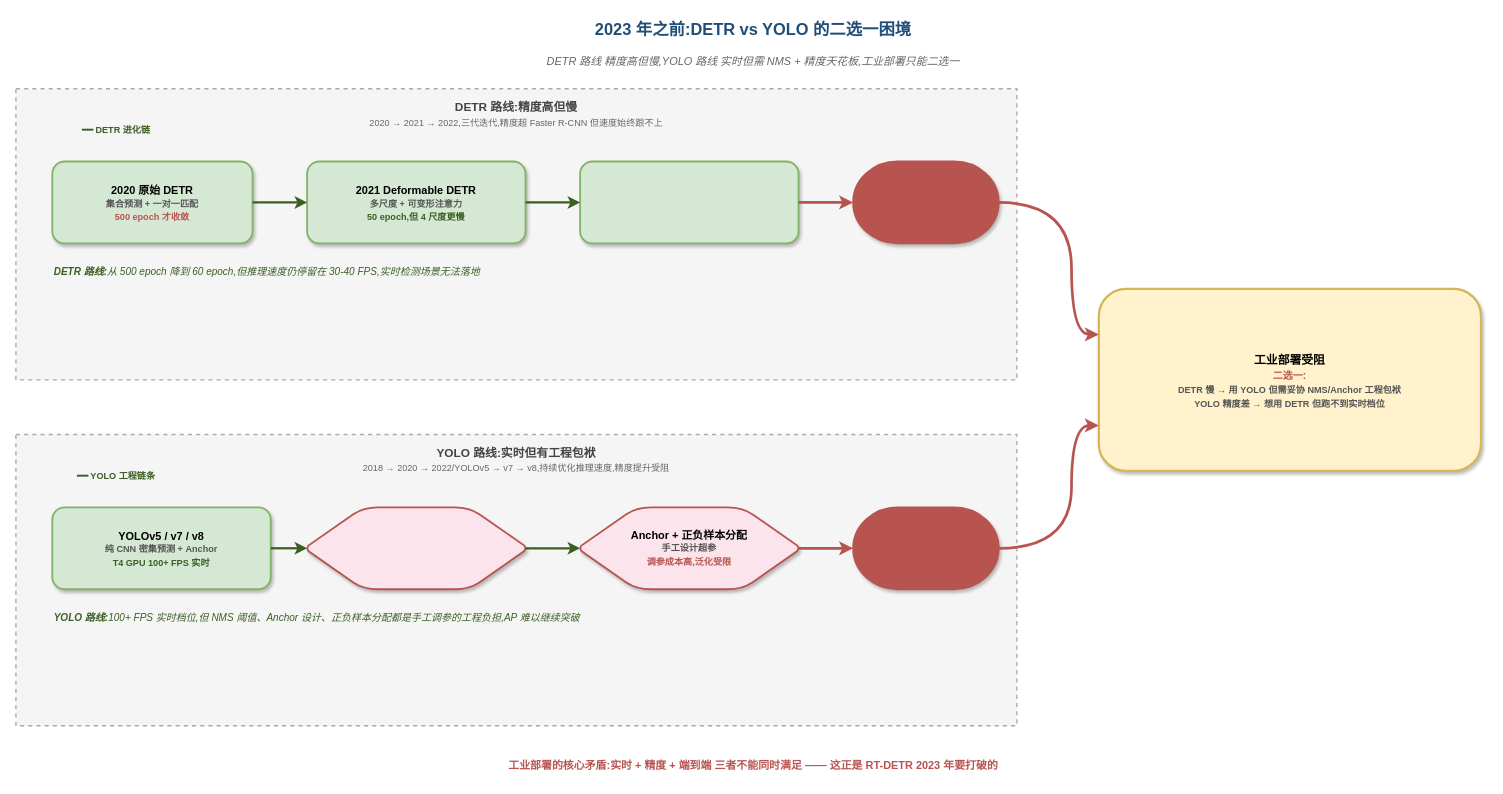
The diagram is 1503 pixels wide and 794 high, and some of its shapes have lost their labels. Here are the shapes that lost their labels. From the top down, the centre of each, then its label:
the point at 689,203: 2022 DN-DETR 去噪训练 + 加速收敛 60 epoch 收敛,精度超 Faster R-CNN
the point at 926,203: 无法实时,被 YOLO 压制 T4 GPU 仅 30-40 FPS
the point at 416,549: 后处理 NMS 非极大值抑制 阈值需调,时延不稳定
the point at 926,549: 精度天花板 + 工程包袱 AP 难破 + 部署复杂
